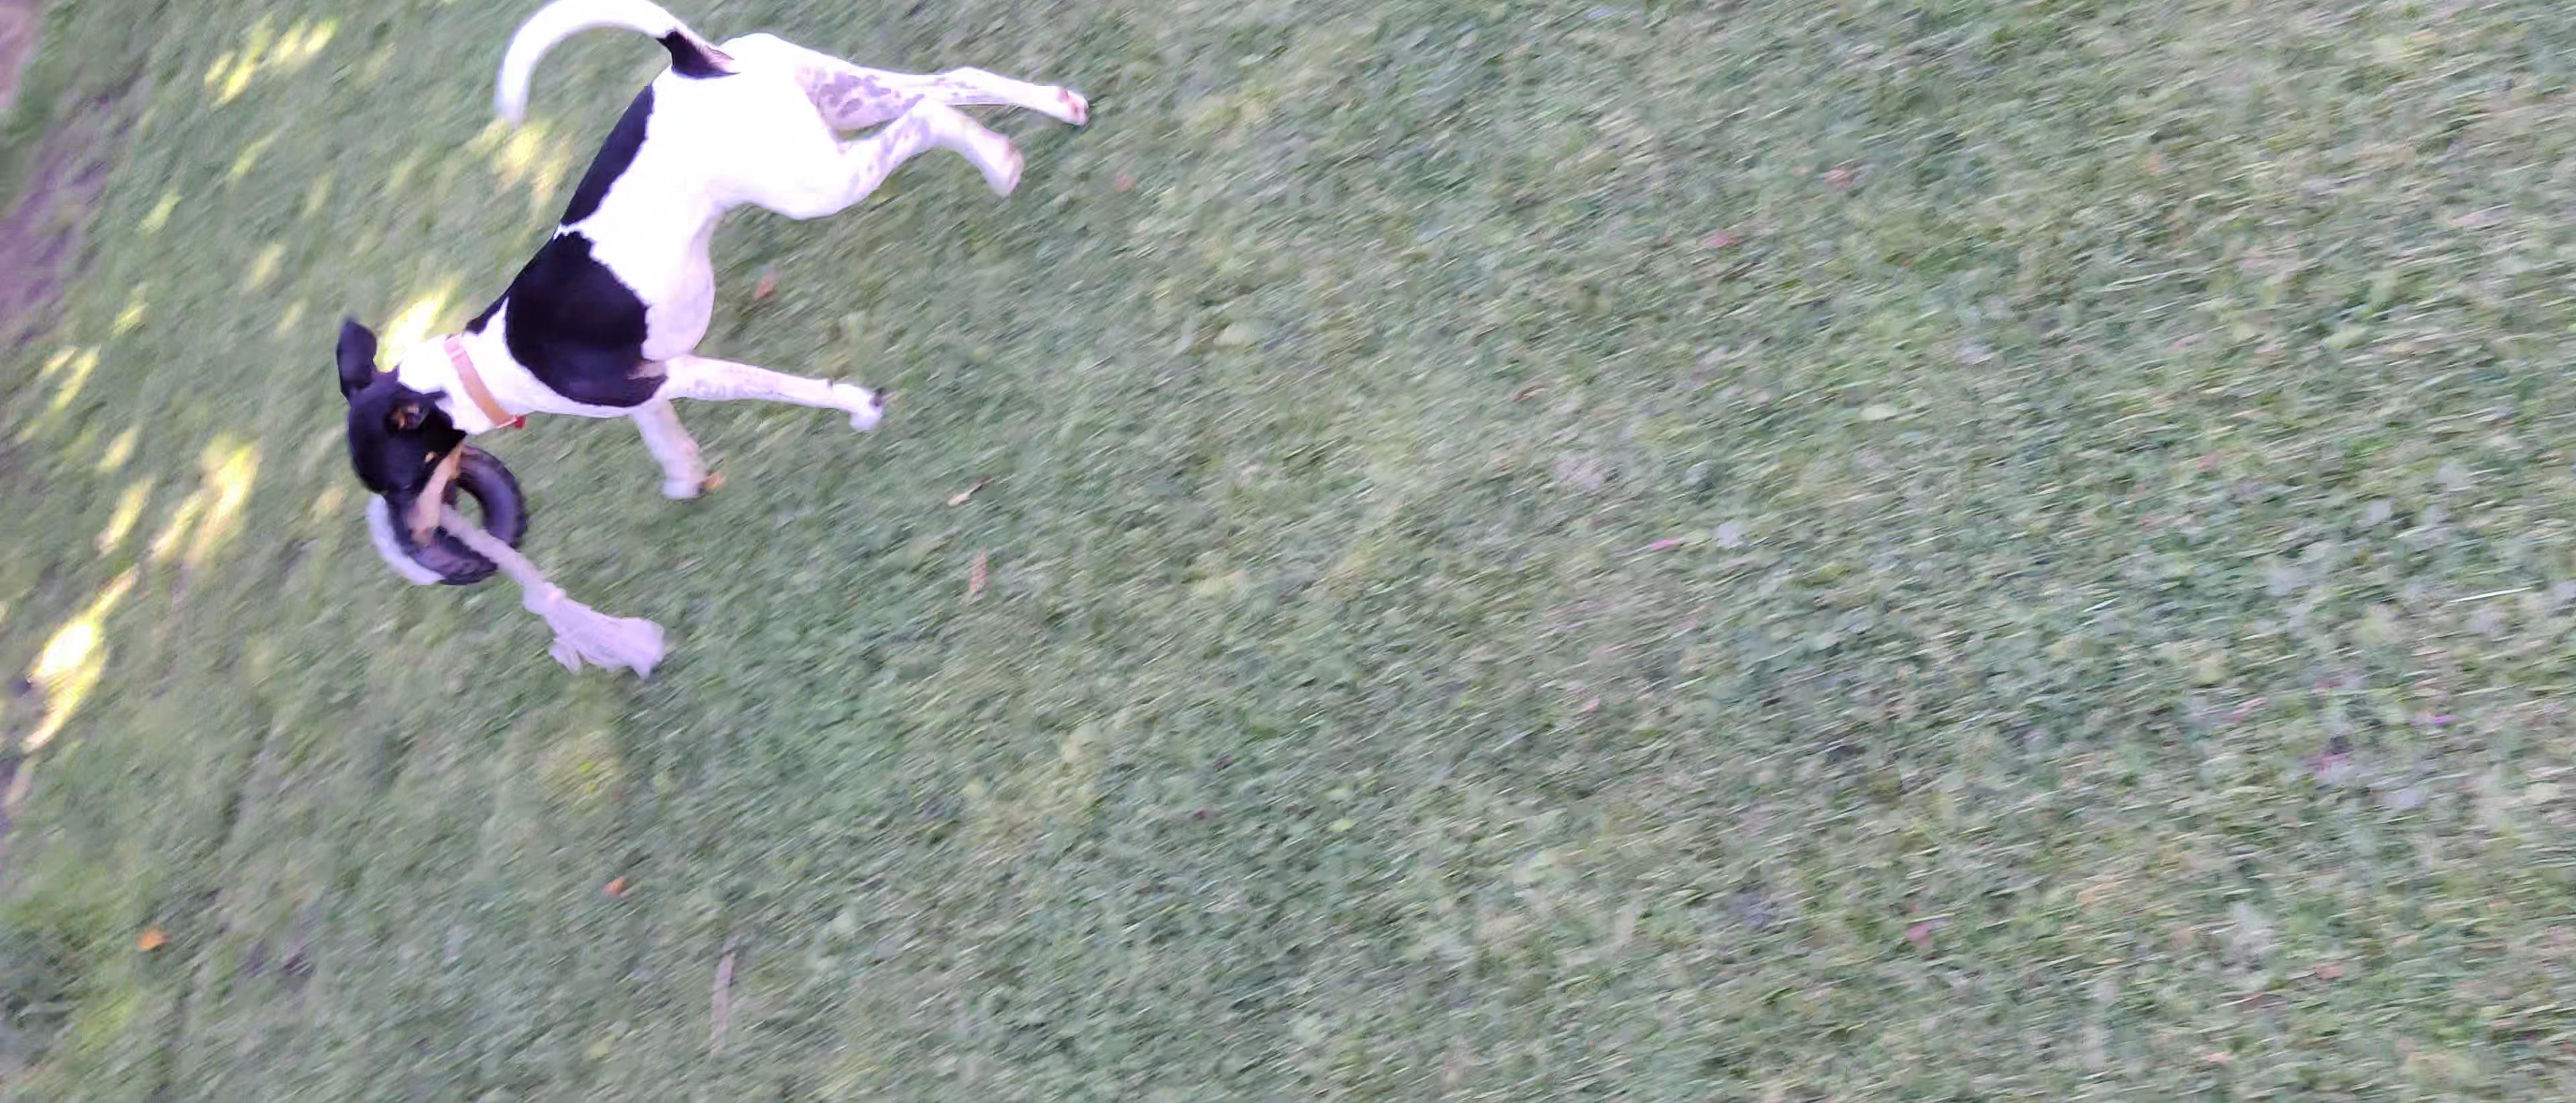Dog: (307, 0, 1106, 575)
